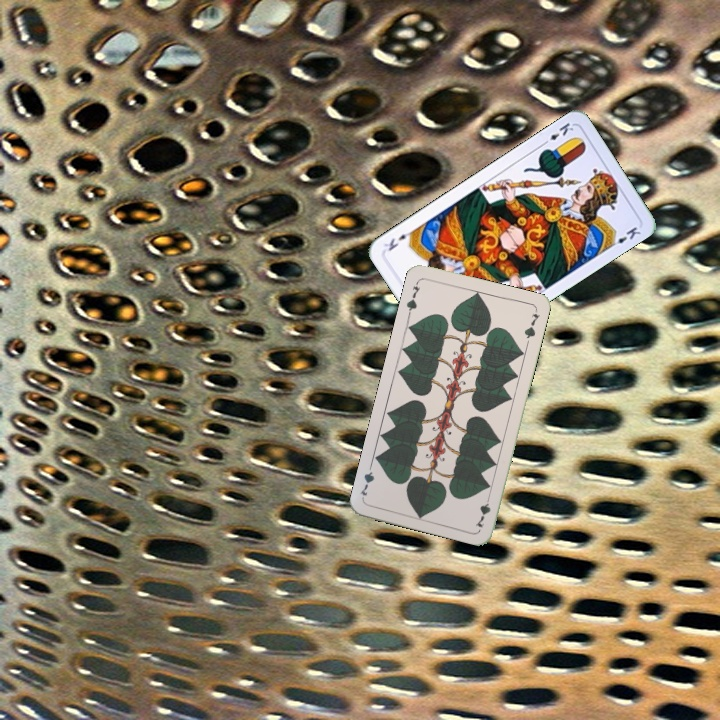EK: (538, 119, 576, 148)
G7: (472, 490, 493, 530), (402, 278, 423, 318)
